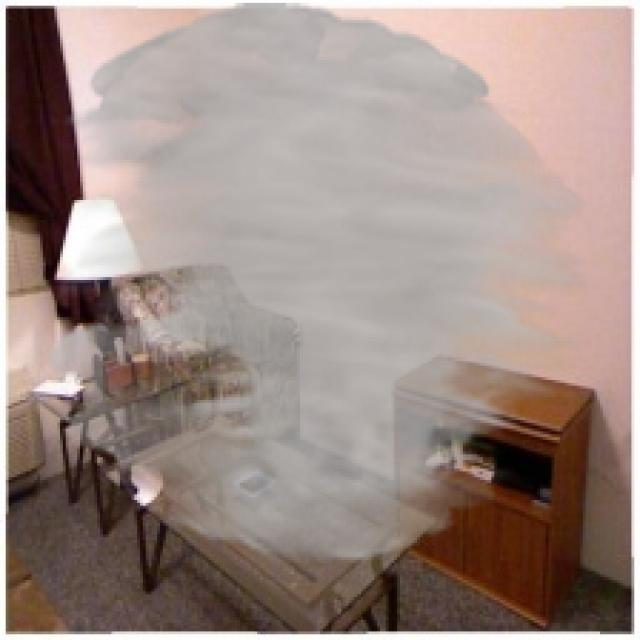smoke: (49, 3, 588, 563)
